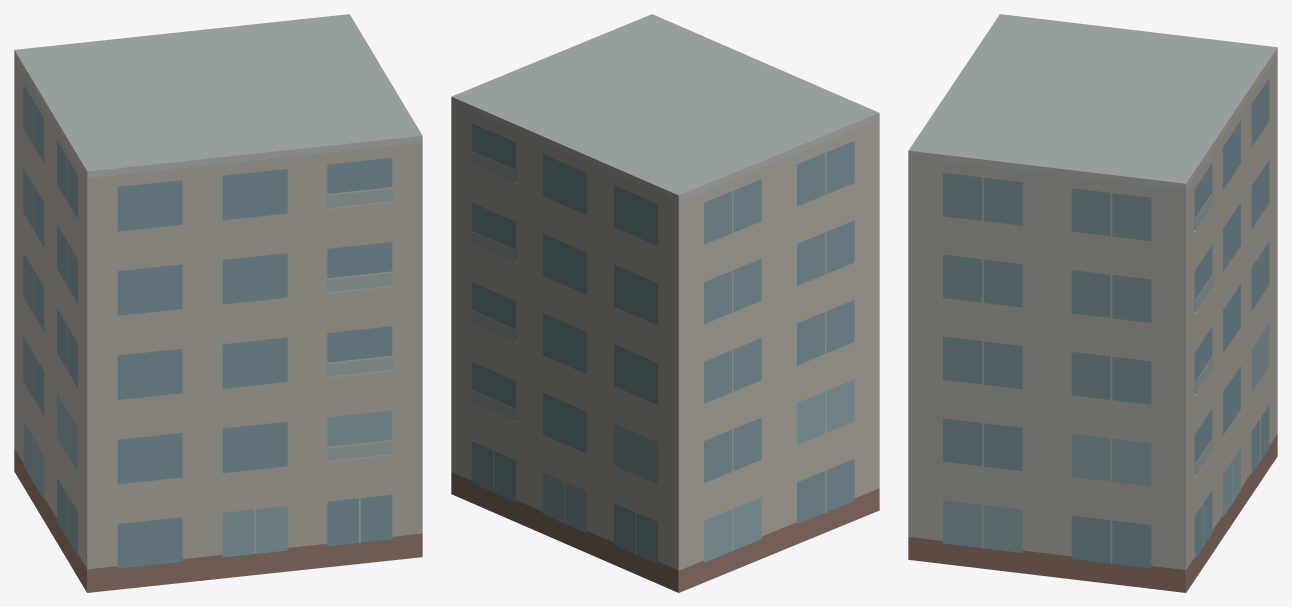
File: survey-upis-32535321.glb
3 renders of one model, left to right at view 1: azimuth 30°, elevation 25°; view 2: azimuth 150°, elevation 25°; view 3: azimuth 270°, elevation 25°, orthographic. The views are drawn at different scales.
Parts seen in each view (by area): view 1: survey-upis-32535321.tmp; view 2: survey-upis-32535321.tmp; view 3: survey-upis-32535321.tmp.
Boxes of the visible parts, <box> form: survey-upis-32535321.tmp: <box>14,14,422,592</box>; survey-upis-32535321.tmp: <box>451,14,879,592</box>; survey-upis-32535321.tmp: <box>908,14,1277,592</box>.
Bounding box in the file's own units: 13.4 × 15.05 × 12.32.
